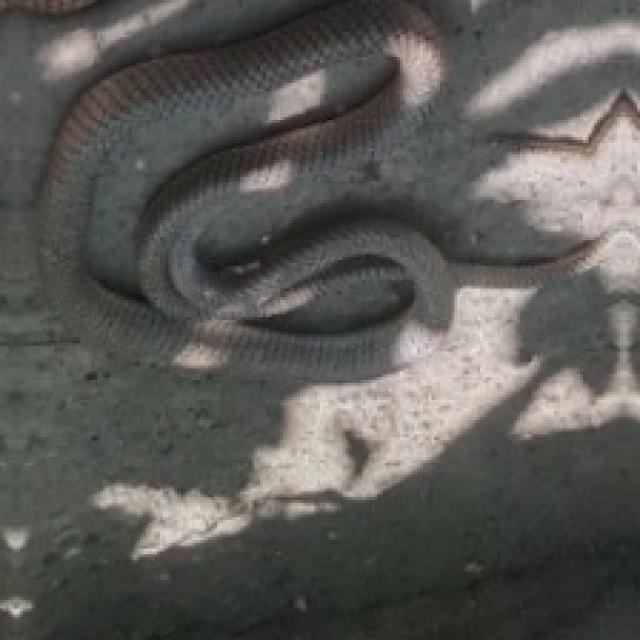paradise tree snake: (40, 0, 637, 374)
